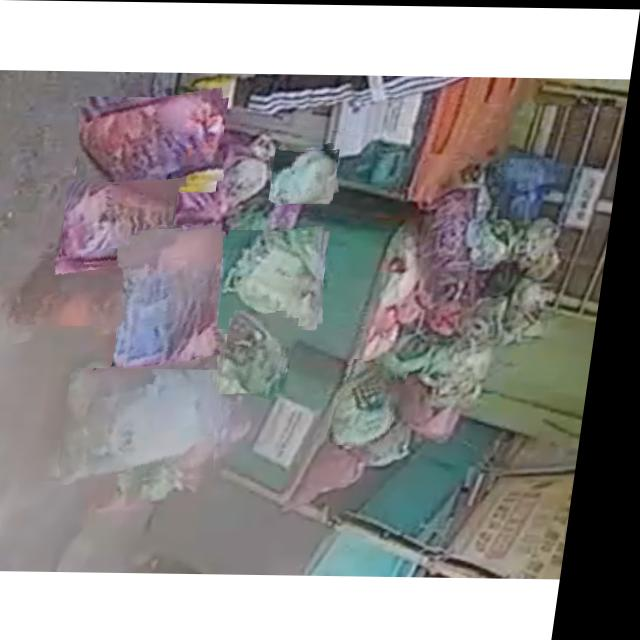general_trashbag: (76, 369, 229, 484), (232, 233, 331, 324), (236, 309, 296, 394), (345, 365, 404, 443), (280, 148, 340, 202)
other_trashbag: (85, 93, 226, 191), (136, 225, 227, 370), (73, 183, 180, 266), (17, 260, 141, 326)
